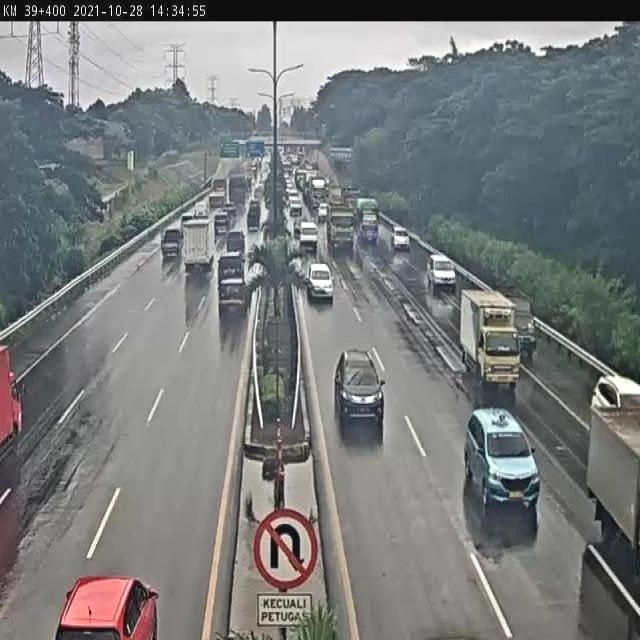Car: (464, 408, 540, 521), (53, 575, 160, 637), (336, 348, 386, 432), (506, 294, 536, 362), (306, 262, 334, 302), (427, 253, 455, 290), (218, 251, 244, 283), (161, 227, 182, 259), (358, 212, 379, 244), (298, 221, 318, 252), (226, 228, 245, 255), (391, 225, 410, 250), (180, 212, 196, 233), (290, 198, 302, 219), (194, 201, 208, 219), (317, 202, 328, 222)
Truck: (583, 375, 640, 548), (459, 288, 520, 388), (182, 219, 215, 271)
